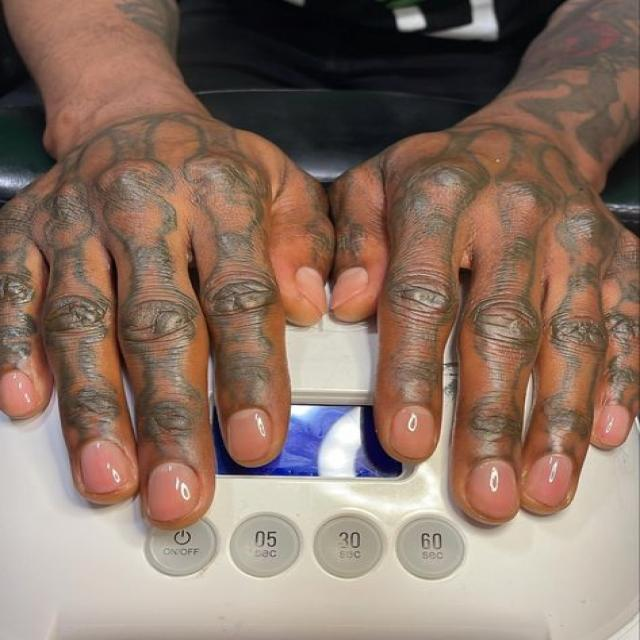Fingernail: (147, 463, 201, 521), (466, 461, 518, 520), (81, 440, 133, 494), (525, 455, 572, 507), (227, 408, 272, 461), (391, 406, 434, 458), (0, 370, 36, 416), (329, 267, 368, 308), (591, 406, 630, 446), (296, 266, 323, 312)
